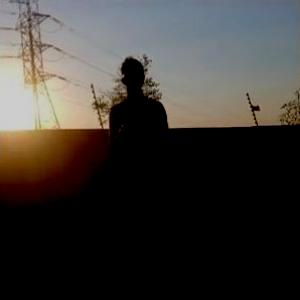follow: (108, 50, 190, 287)
